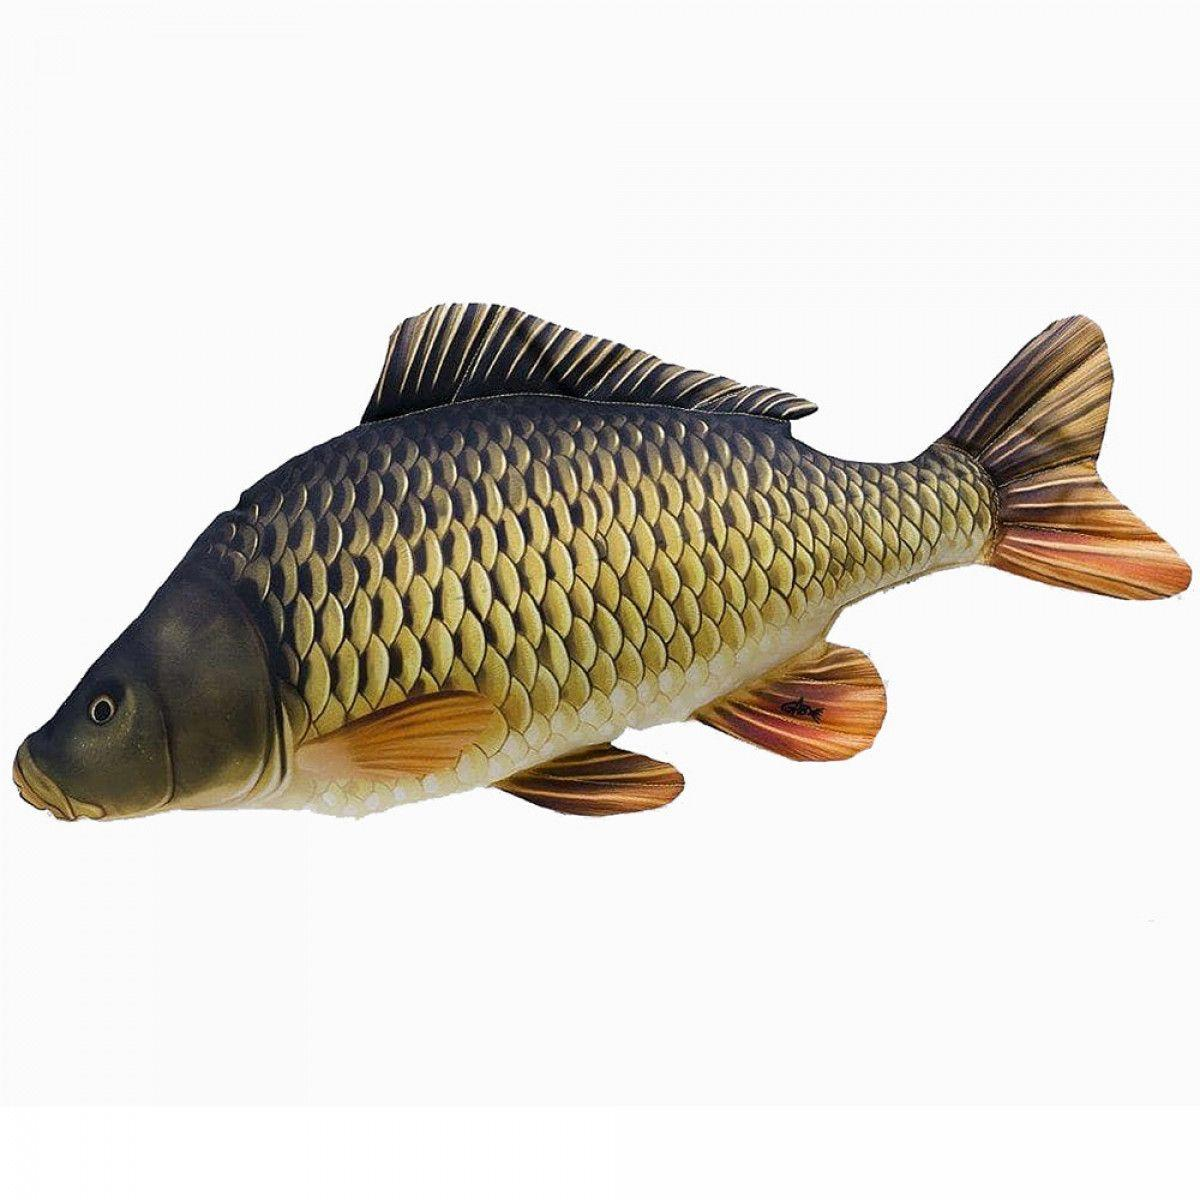Indian Carp: (1, 290, 1200, 833)
